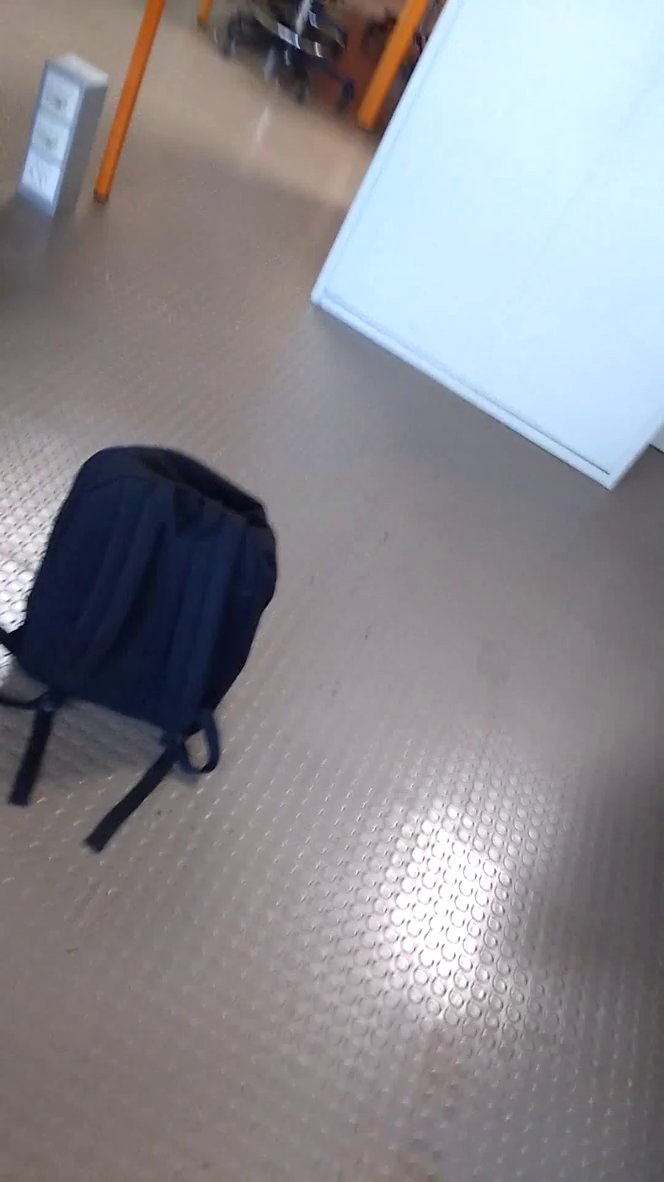bag: (1, 419, 293, 857)
